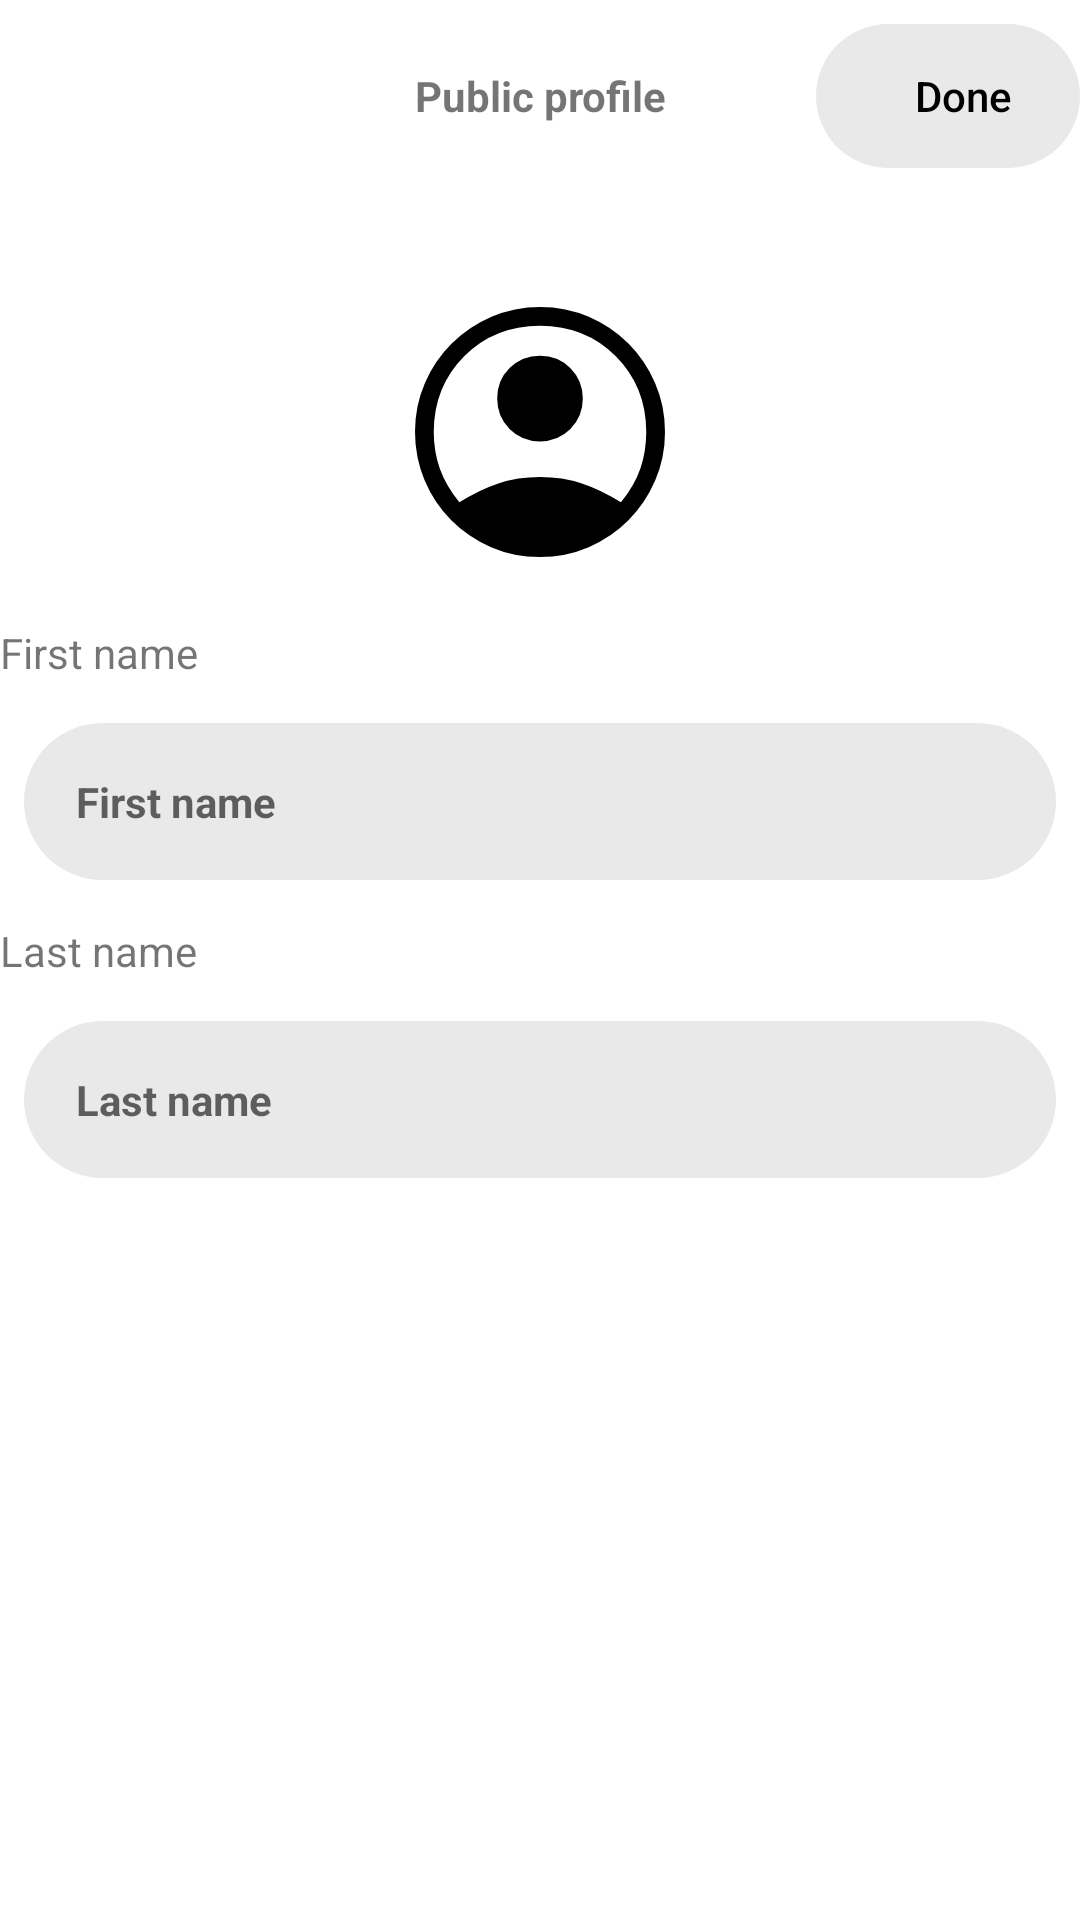

Icon bounding boxes for this 1080 × 1920 phone screenshot, format rect(x1, y1, x2, y2):
account circle: rect(415, 307, 665, 557)
